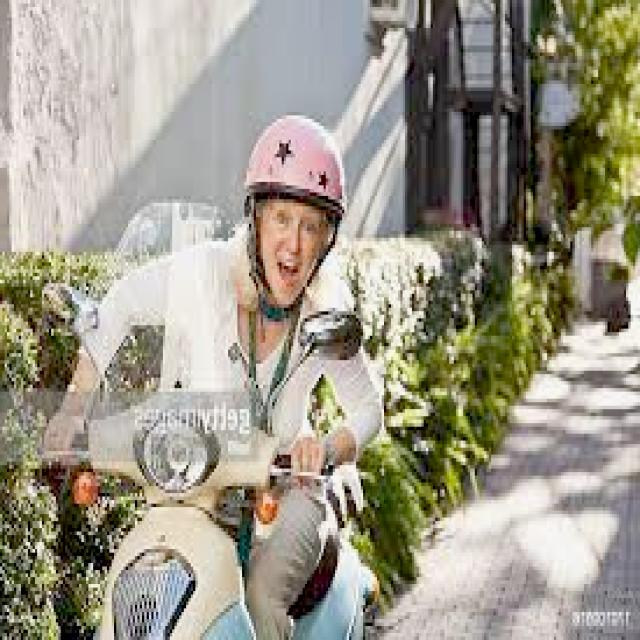helmet: (247, 115, 347, 224)
